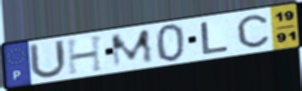0: (155, 22, 186, 63)
C: (235, 13, 271, 49)
H: (65, 33, 106, 77)
L: (200, 20, 231, 56)
M: (108, 27, 156, 70)
U: (27, 39, 69, 81)
